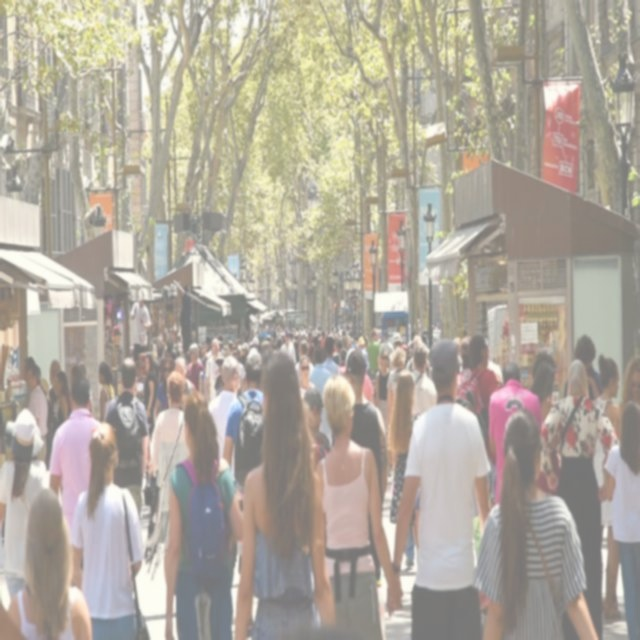pessoa: (384, 334, 498, 638), (233, 348, 338, 639), (470, 409, 600, 639), (314, 374, 405, 638), (539, 357, 622, 639), (164, 391, 246, 638), (68, 421, 151, 638), (7, 486, 94, 638), (228, 318, 368, 392), (47, 372, 103, 548), (0, 406, 49, 598), (603, 396, 639, 639), (592, 350, 624, 622), (488, 357, 544, 500), (148, 370, 192, 550), (104, 356, 150, 518), (342, 346, 388, 498), (388, 368, 421, 574), (456, 329, 504, 462), (222, 352, 266, 494), (206, 354, 242, 484), (44, 352, 92, 430), (379, 326, 436, 371), (24, 362, 49, 464), (572, 332, 604, 404), (409, 342, 439, 418), (302, 384, 333, 456), (531, 346, 561, 411), (618, 352, 640, 436), (130, 288, 154, 363), (153, 354, 177, 426), (374, 346, 392, 436), (176, 280, 197, 352), (142, 352, 158, 442), (451, 326, 472, 394), (96, 358, 116, 426), (22, 352, 47, 405), (204, 337, 222, 408), (152, 308, 177, 355), (174, 354, 196, 394), (486, 342, 506, 386), (187, 343, 204, 393), (366, 326, 381, 376), (197, 327, 209, 360)
